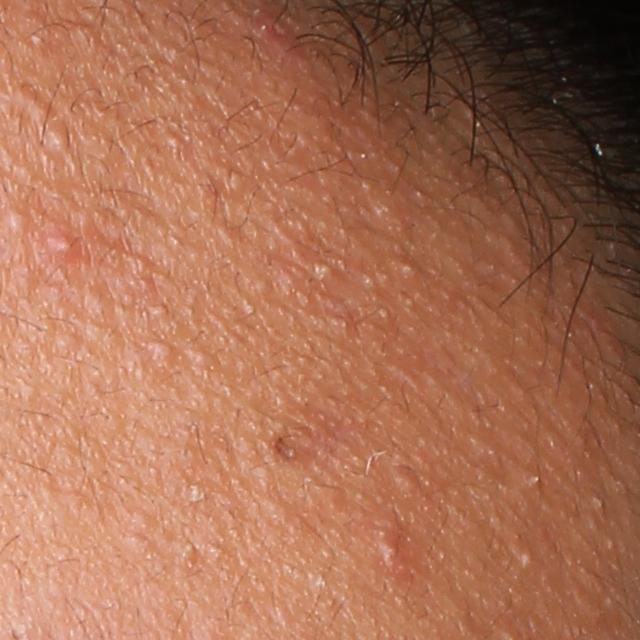comedo: (395, 465, 423, 498), (146, 336, 175, 363), (525, 467, 551, 491), (191, 344, 217, 368), (42, 129, 65, 156), (22, 23, 46, 48), (587, 490, 610, 515), (162, 132, 185, 155), (396, 256, 416, 281), (145, 303, 172, 321), (4, 210, 26, 231), (517, 544, 535, 568), (314, 257, 332, 279)
papule: (248, 4, 298, 51), (44, 221, 86, 263), (374, 534, 405, 567)
